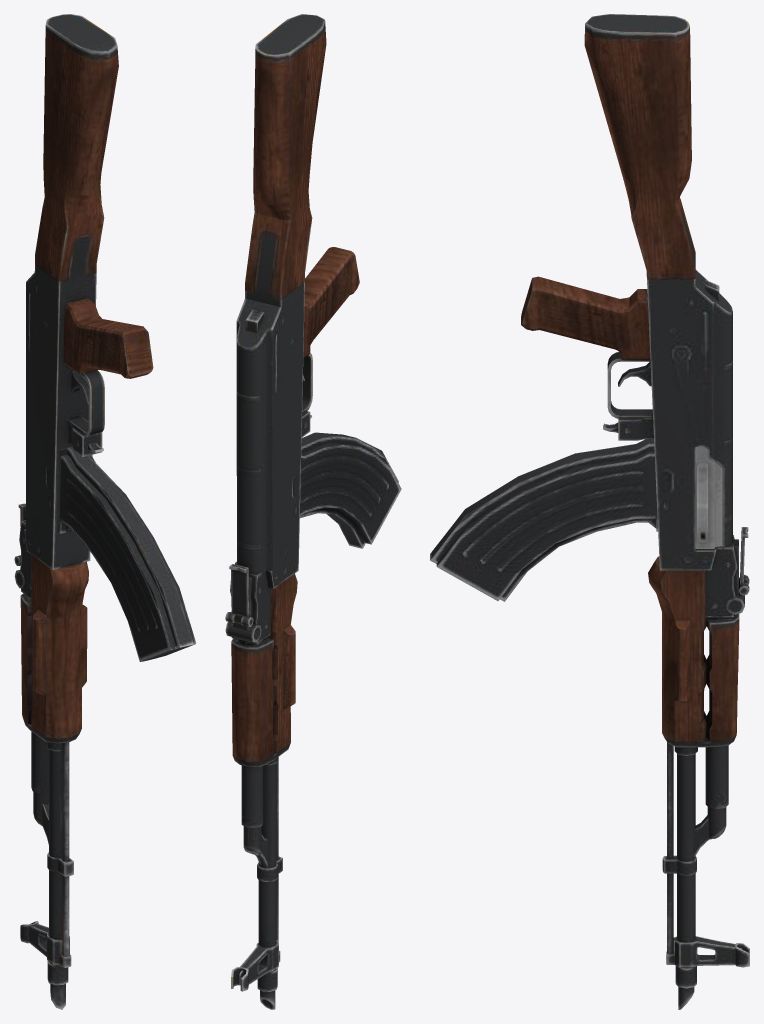
3 renders of one model, left to right at view 1: azimuth 30°, elevation 25°; view 2: azimuth 150°, elevation 25°; view 3: azimuth 270°, elevation 25°, orthographic. The views are drawn at different scales.
Visible parts, largest first — view 1: w_ak; view 2: w_ak; view 3: w_ak.
Part boxes in pixels (box(x1,y1,x2,y2)): w_ak: box(14, 14, 196, 1009); w_ak: box(225, 14, 401, 1009); w_ak: box(430, 14, 749, 1009).
Size of the model in its own units: 0.0404 by 0.7381 by 0.2166.
1 material, 1 textured.
